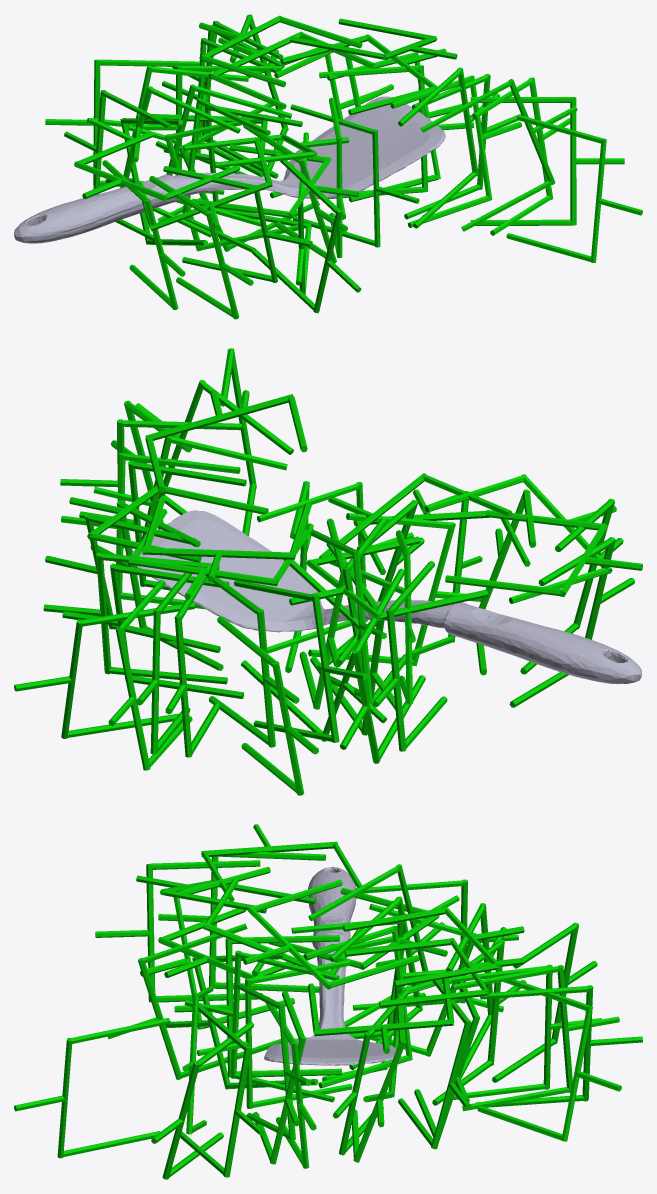
Rendered from triposr_gt_grasps.glb.
3 renders of one model, top to bottom at view 1: azimuth 30°, elevation 25°; view 2: azimuth 150°, elevation 25°; view 3: azimuth 270°, elevation 25°, orthographic. The views are drawn at different scales.
Parts seen in each view (by area): view 1: world; view 2: world; view 3: world.
Boxes of the visible parts, x1,y1,x2,y2 form: world: [14, 14, 642, 319]; world: [14, 348, 642, 795]; world: [14, 824, 642, 1179].
Size of the model in its own units: 0.4009 by 0.1608 by 0.3829.
